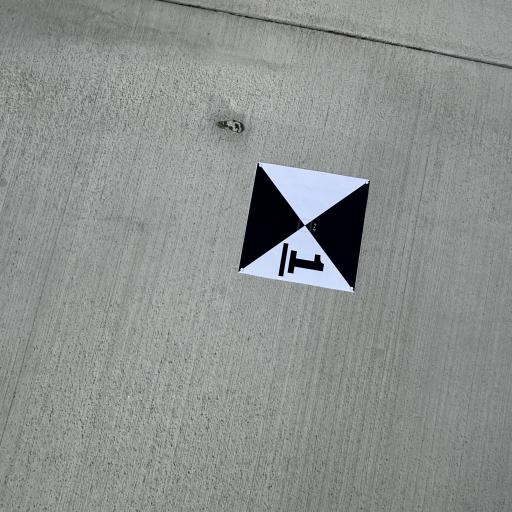target1: (230, 155, 377, 302)
